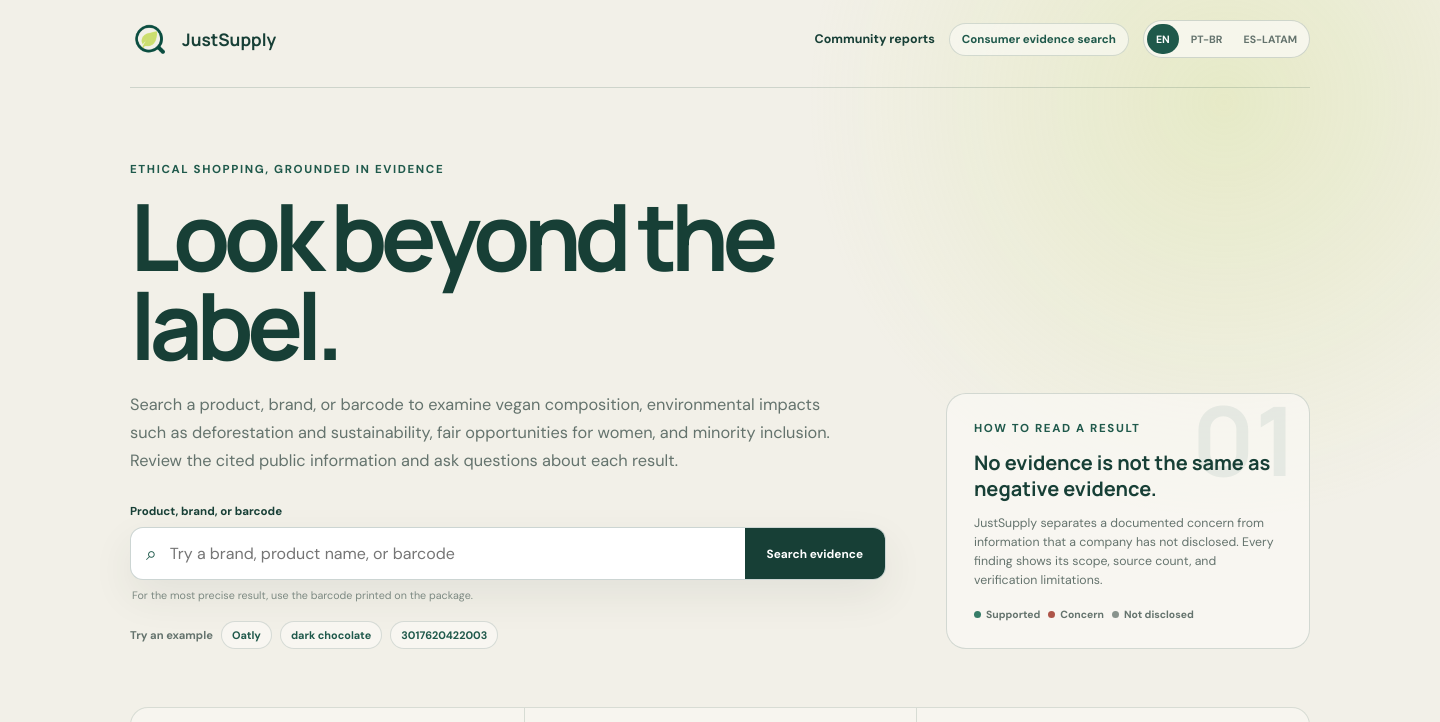
consumer evidence experience › keeps Ask available when automatic research needs a retry
This screenshot has width=1440, height=722.
Type "7891000100103" into the field labelled "Product, brand, or barcode" at (451, 554), box [157,528,745,579]
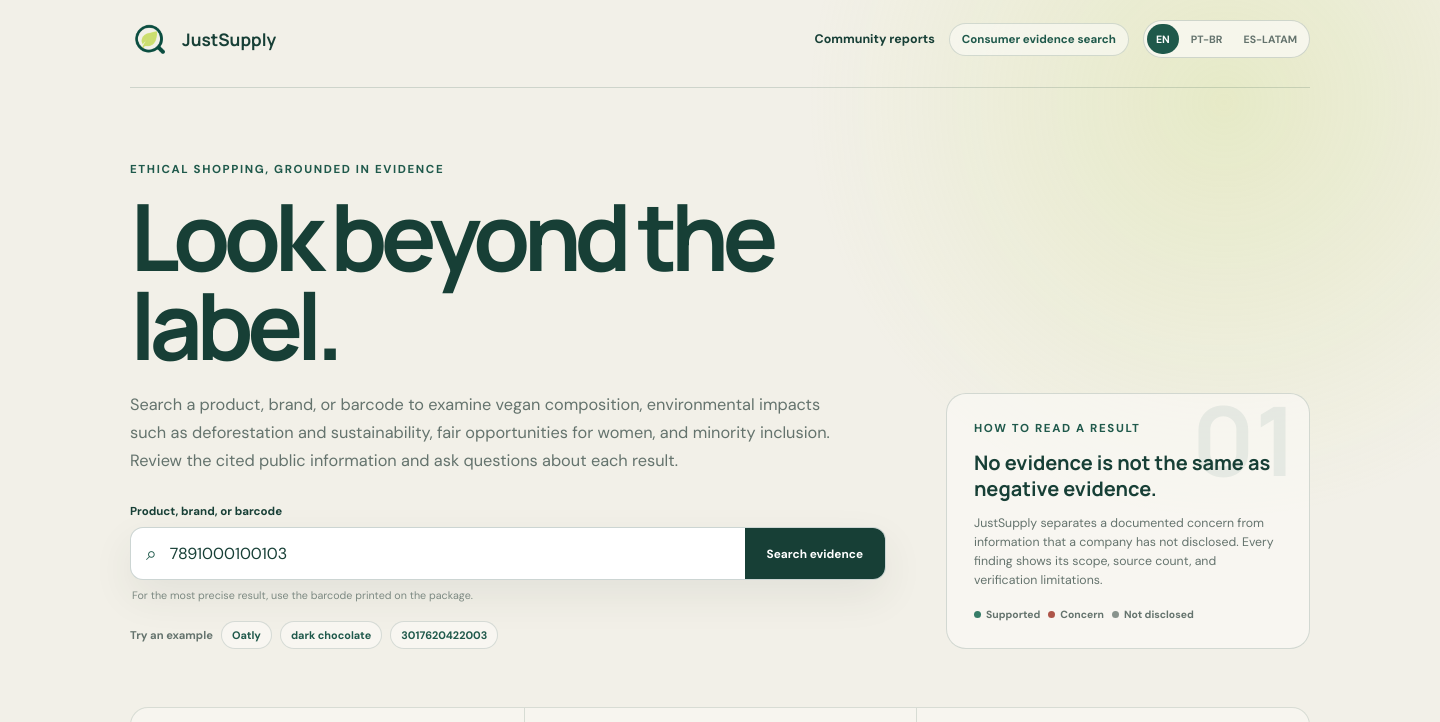
Click the button "Search evidence" at (815, 554), box [744,528,885,579]
(page scrolled)
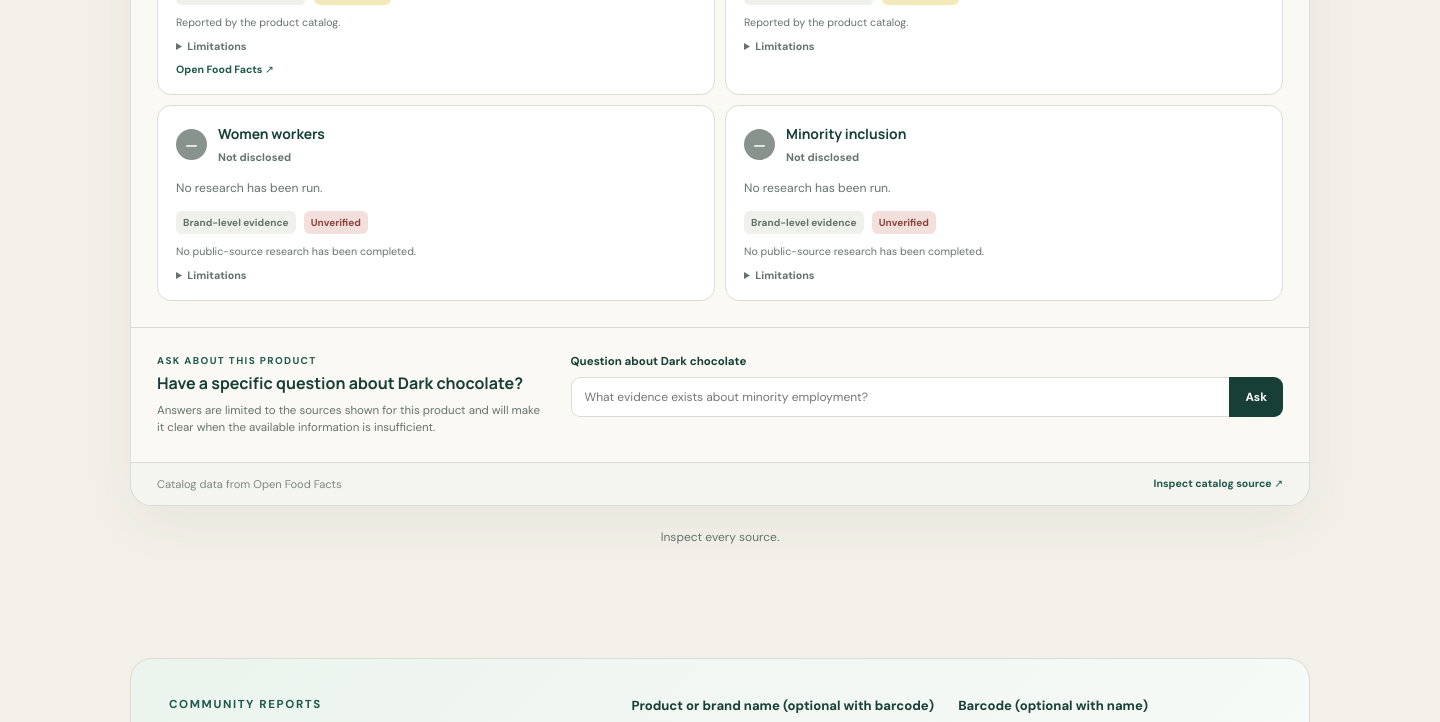
Check: the button "Ask" is enabled, box [1230,377,1283,417]
Type "What evidence is available?" into the field labelled "Question about Dark chocolate" at (900, 397), box [571,377,1230,417]
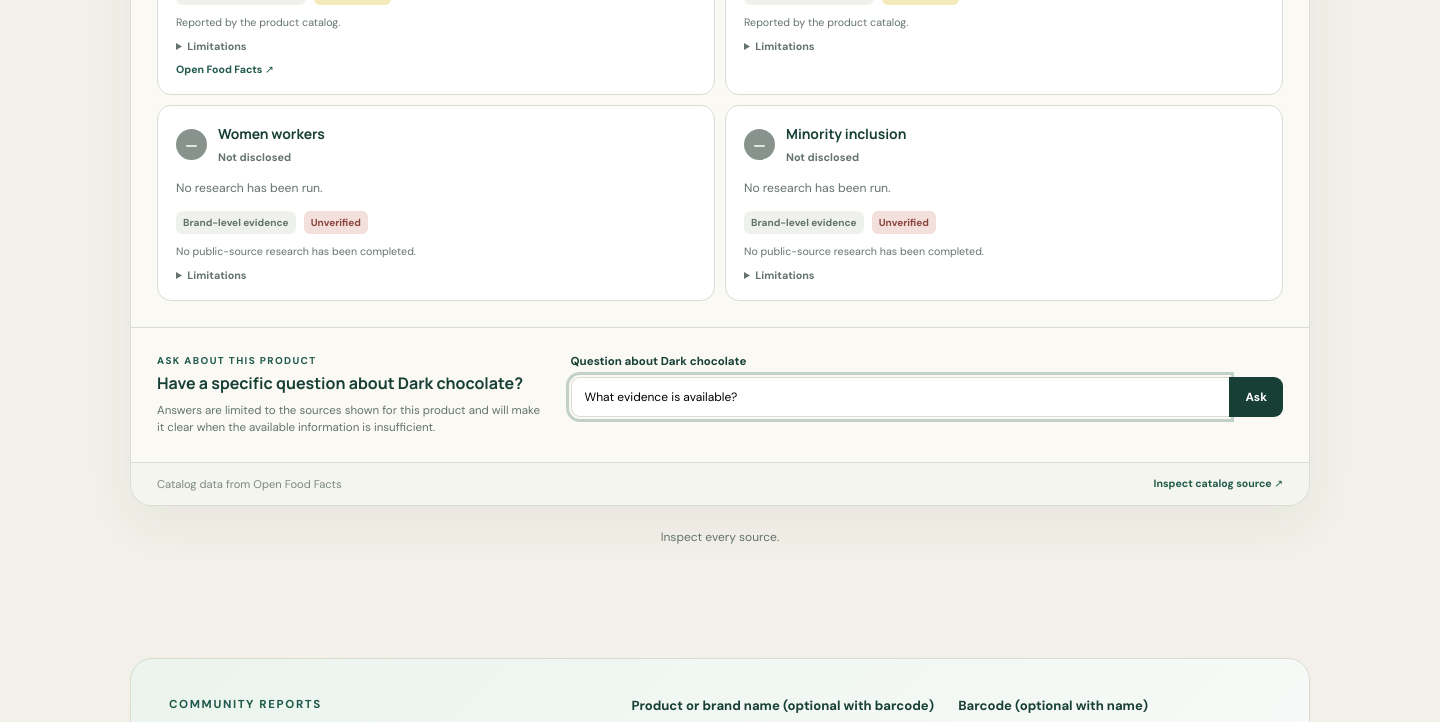
Click the button "Ask" at (1256, 397), box [1230,377,1283,417]
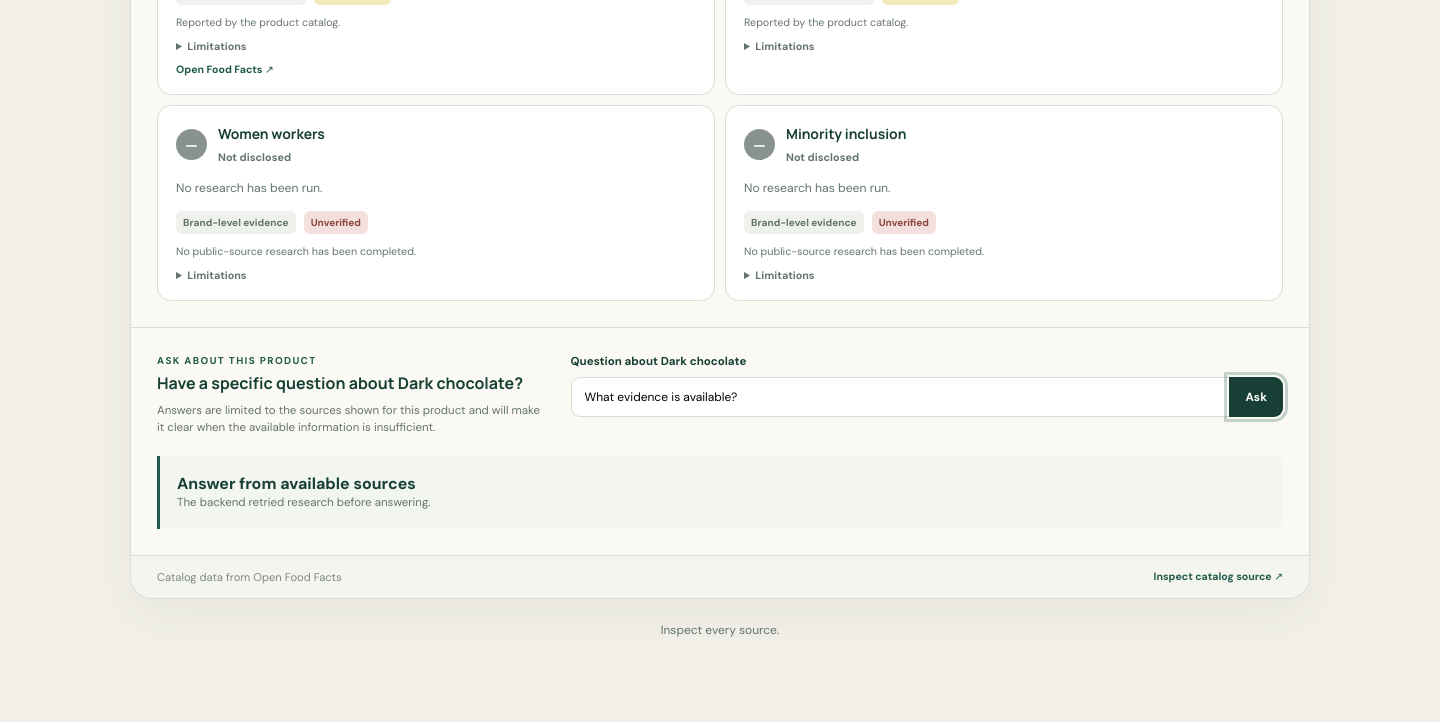
Check: the text "The backend retried research before answering." is shown, box [177,495,431,510]
